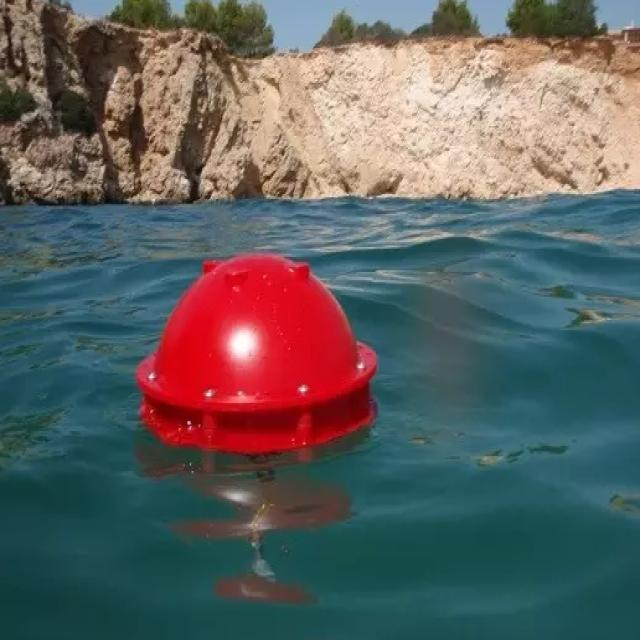buoy: (130, 235, 382, 479)
